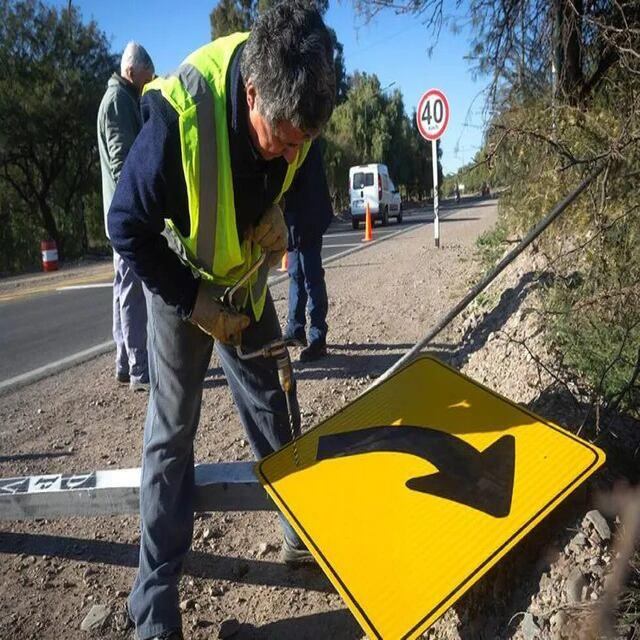Inclined Pole: (0, 343, 606, 640)
